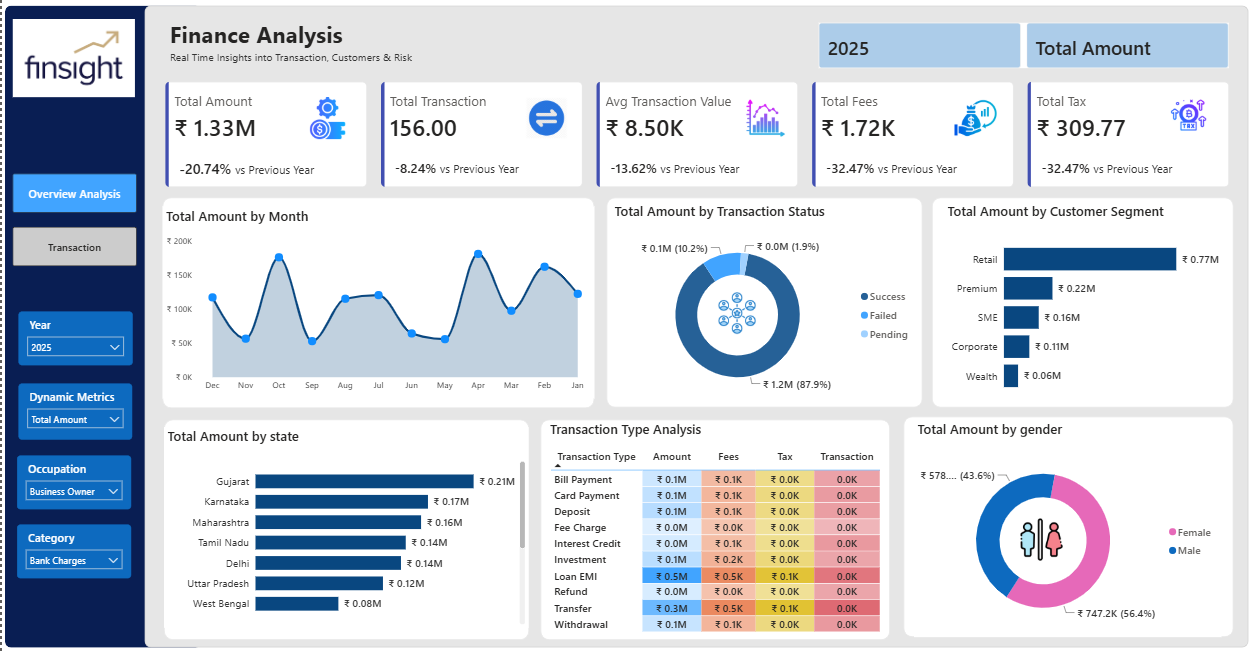

What the dashboard file says about the page in this screenshot:
{"tool":"powerbi","page":{"name":"Overview Analysis","canvas":[1800,950],"ordinal":0},"visuals":[{"type":"shape","box":[4.4,11.1,279.8,914.8],"z":0},{"type":"shape","box":[203,10.7,1572.5,914.4],"z":1000},{"type":"image","box":[0,29.9,204.6,111.6],"z":2000},{"type":"cardVisual","fields":{"Data":["finance_transactions.Dashboard Title"]},"box":[222.2,10.7,423,102.6],"z":3000},{"type":"cardVisual","fields":{"Data":["finance_transactions.Total Amount","finance_transactions.Total Transaction","finance_transactions.AV Transaction Value","finance_transactions.Total Fees","finance_transactions.Total Tax"]},"box":[226.5,113.2,1527.6,162.4],"z":5000},{"type":"image","box":[433.7,141,60,60],"z":6000},{"type":"image","box":[745.6,141,60,60],"z":7000},{"type":"image","box":[1356.7,141,60,60],"z":8000},{"type":"image","box":[1057.6,141,60,60],"z":9000},{"type":"image","box":[1660,136.7,60,60],"z":10000},{"type":"shape","box":[228.7,284.2,615,300],"z":12000},{"type":"areaChart","fields":{"Y":["finance_transactions.Total Amount"],"Category":["Calender Table.Month"]},"box":[228.7,297.5,615.1,273.1],"z":13000},{"type":"cardVisual","fields":{"Data":["finance_transactions.Selected Year","finance_transactions.Selected Dynamic Measure"]},"box":[1158,29.9,595.1,75.5],"z":14000},{"type":"shape","box":[861.5,284.2,450,299],"z":15000},{"type":"donutChart","fields":{"Y":["finance_transactions.Total Amount"],"Category":["finance_transactions.transaction_status"]},"box":[867.4,290.6,438,286.3],"z":16000},{"type":"shape","box":[1324.6,284.2,429.4,299.1],"z":17000},{"type":"barChart","fields":{"Y":["finance_transactions.Total Amount"],"Category":["customers.customer_segment"]},"box":[1341.1,290.9,397.5,286.4],"z":18000},{"type":"shape","box":[230.9,599.5,520,314],"z":19000},{"type":"barChart","fields":{"Y":["finance_transactions.Total Amount"],"Category":["customers.state"]},"box":[230.7,611,519.2,286.3],"z":19001},{"type":"shape","box":[767,600.4,497.8,314.1],"z":19002},{"type":"tableEx","title":"Transaction Type Analysis","fields":{"Values":["finance_transactions.transaction_type","finance_transactions.Total Amount","finance_transactions.Total Fees","finance_transactions.Total Tax","finance_transactions.Total Transaction"]},"box":[775.5,600.4,489.3,314.1],"z":19004},{"type":"shape","box":[1284,596.1,470,314.1],"z":19005},{"type":"donutChart","fields":{"Y":["finance_transactions.Total Amount"],"Category":["customers.gender"]},"box":[1299,600.4,438,309.8],"z":19006},{"type":"image","box":[1017,418.8,60,60],"z":19007},{"type":"image","box":[1450.7,741.4,59.8,59.8],"z":19008},{"type":"slicer","fields":{"Values":["Dynamic Metrics.Dynamic Metrics"]},"box":[22.8,550,162.1,79.9],"z":19009},{"type":"slicer","fields":{"Values":["customers.occupation"]},"box":[20.7,652.5,162.4,76.9],"z":19010},{"type":"slicer","fields":{"Values":["finance_transactions.merchant_category"]},"box":[20.7,750.8,162.4,76.9],"z":19011},{"type":"slicer","fields":{"Values":["Calender Table.Year"]},"box":[22.8,446.5,162.4,76.9],"z":19012},{"type":"pageNavigator","box":[15,250,177.3,132.5],"z":19013}]}

Visuals, with their boxes on the page's 1800x950 design canvas (x1, y1, x2, y2). These are canvas units, not pixel positions in the 1255x654 screenshot, which may show the page scaled, cropped or inside an application window:
shape: region(4, 11, 284, 926)
shape: region(203, 11, 1776, 925)
image: region(0, 30, 205, 142)
cardVisual - finance_transactions.Dashboard Title: region(222, 11, 645, 113)
cardVisual - finance_transactions.Total Amount x finance_transactions.Total Transaction: region(226, 113, 1754, 276)
image: region(434, 141, 494, 201)
image: region(746, 141, 806, 201)
image: region(1357, 141, 1417, 201)
image: region(1058, 141, 1118, 201)
image: region(1660, 137, 1720, 197)
shape: region(229, 284, 844, 584)
areaChart - finance_transactions.Total Amount x Calender Table.Month: region(229, 298, 844, 571)
cardVisual - finance_transactions.Selected Year x finance_transactions.Selected Dynamic Measure: region(1158, 30, 1753, 105)
shape: region(862, 284, 1312, 583)
donutChart - finance_transactions.Total Amount x finance_transactions.transaction_status: region(867, 291, 1305, 577)
shape: region(1325, 284, 1754, 583)
barChart - finance_transactions.Total Amount x customers.customer_segment: region(1341, 291, 1739, 577)
shape: region(231, 600, 751, 914)
barChart - finance_transactions.Total Amount x customers.state: region(231, 611, 750, 897)
shape: region(767, 600, 1265, 914)
"Transaction Type Analysis" tableEx: region(776, 600, 1265, 914)
shape: region(1284, 596, 1754, 910)
donutChart - finance_transactions.Total Amount x customers.gender: region(1299, 600, 1737, 910)
image: region(1017, 419, 1077, 479)
image: region(1451, 741, 1510, 801)
slicer - Dynamic Metrics.Dynamic Metrics: region(23, 550, 185, 630)
slicer - customers.occupation: region(21, 652, 183, 729)
slicer - finance_transactions.merchant_category: region(21, 751, 183, 828)
slicer - Calender Table.Year: region(23, 446, 185, 523)
pageNavigator: region(15, 250, 192, 382)
